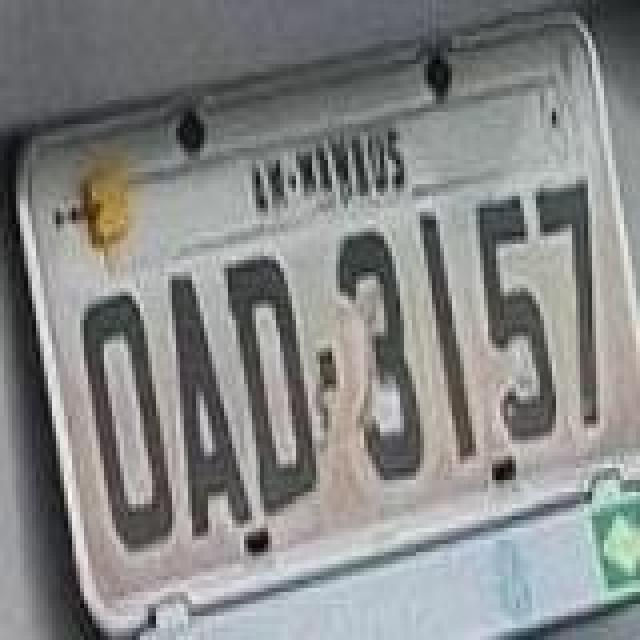1: (420, 208, 476, 464)
3: (336, 230, 424, 482)
5: (474, 196, 558, 444)
7: (534, 176, 602, 432)
A: (170, 272, 254, 544)
D: (224, 254, 320, 514)
O: (80, 286, 176, 554)
